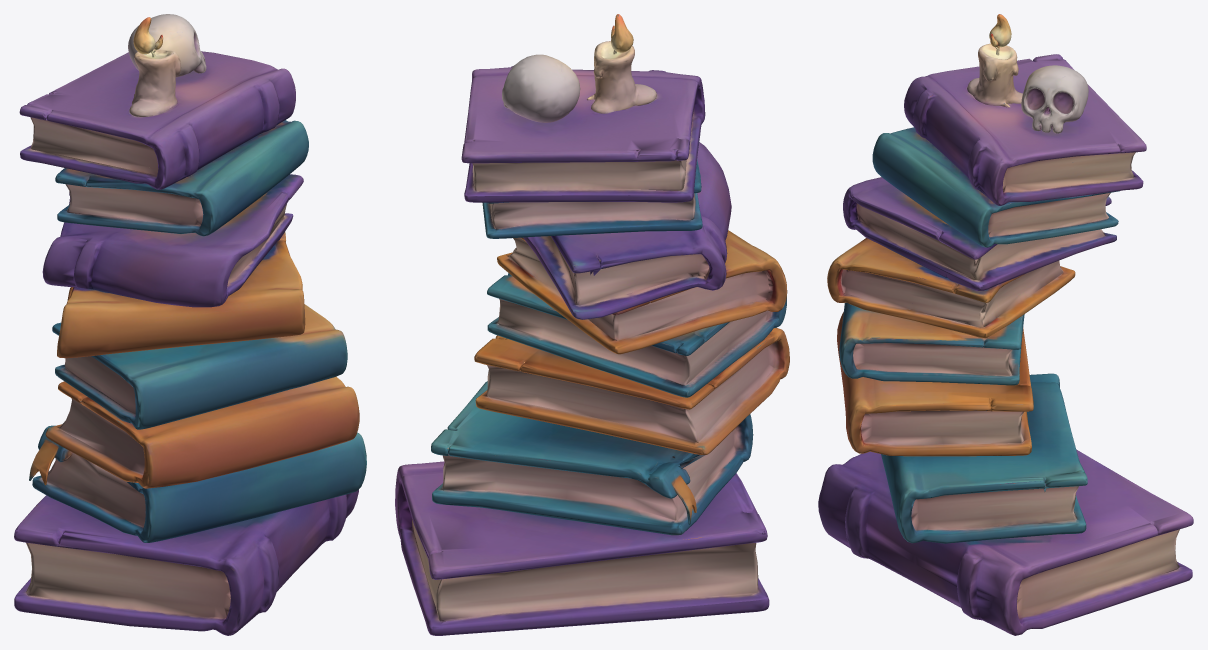
File: S4_BookTower_LOD0.fbx
3 views of the same model, side by side, from view 1: azimuth 30°, elevation 25°; view 2: azimuth 150°, elevation 25°; view 3: azimuth 270°, elevation 25° (orthographic). The views are drawn at different scales.
Visible parts, largest first — view 1: S4_BookTower_LOD0; view 2: S4_BookTower_LOD0; view 3: S4_BookTower_LOD0.
Boxes of the visible parts, box(x1,y1,x2,y2) form: S4_BookTower_LOD0: box(14, 14, 366, 635); S4_BookTower_LOD0: box(395, 14, 789, 635); S4_BookTower_LOD0: box(818, 14, 1193, 635).
Size of the model in its own units: 1.74 by 2.6 by 1.68.
Materials: 1 (1 with a texture image).
